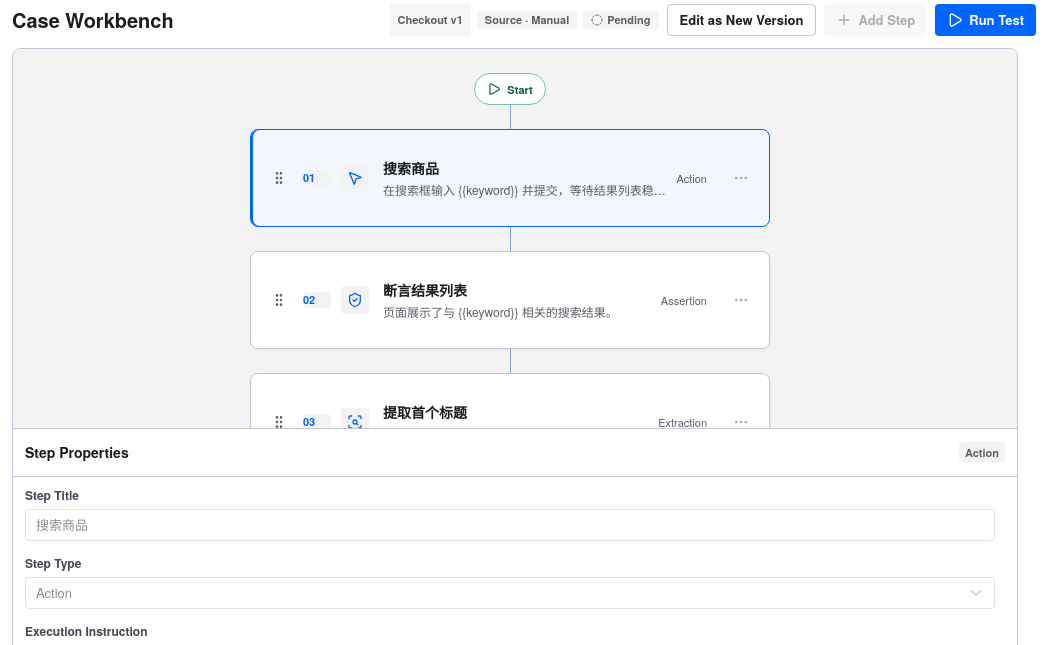
TestCaseManagementPage › makes published Case controls read-only while leaving the draft editor enabled
Check: the field labelled "Step Title" is disabled, box x1=25 y1=508 x2=995 y2=540
Check: the dropdown named "Step Type" is disabled, box x1=25 y1=576 x2=995 y2=608
Click the button "Edit as New Version" at (742, 20), box x1=666 y1=4 x2=816 y2=36
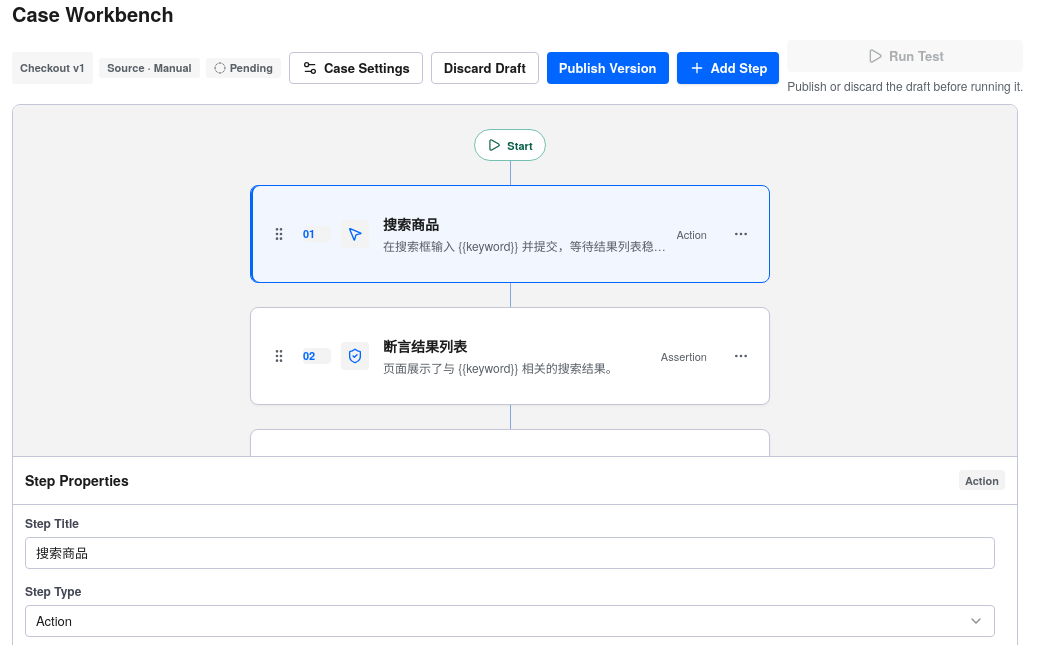
Check: the field labelled "Step Title" is enabled, box x1=25 y1=536 x2=995 y2=568
Check: the dropdown named "Step Type" is enabled, box x1=25 y1=604 x2=995 y2=636
Check: the button named "Drag step: 搜索商品" is enabled, box x1=263 y1=198 x2=295 y2=270
